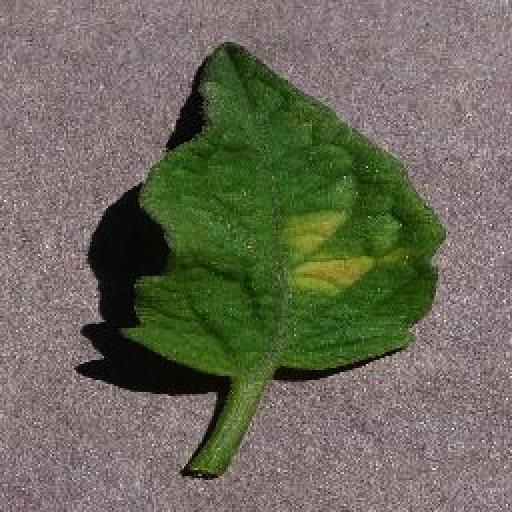disease_tomato: (126, 40, 444, 374)
